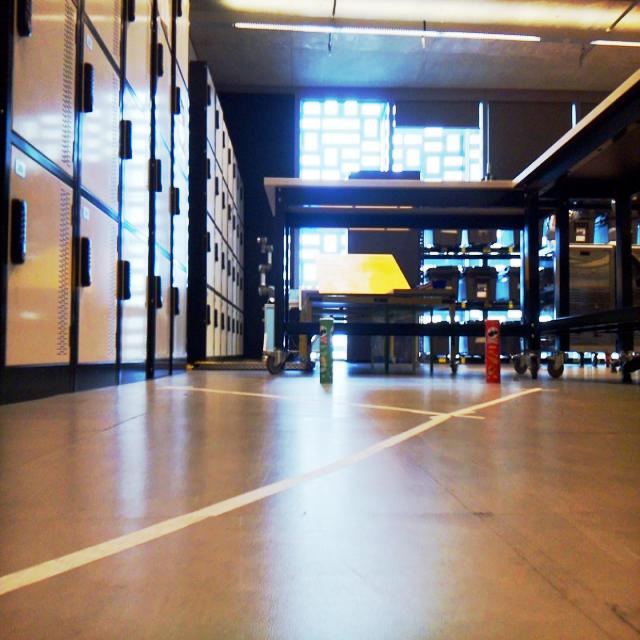greenpringles: (312, 314, 338, 390)
redpringles: (473, 319, 510, 388)
